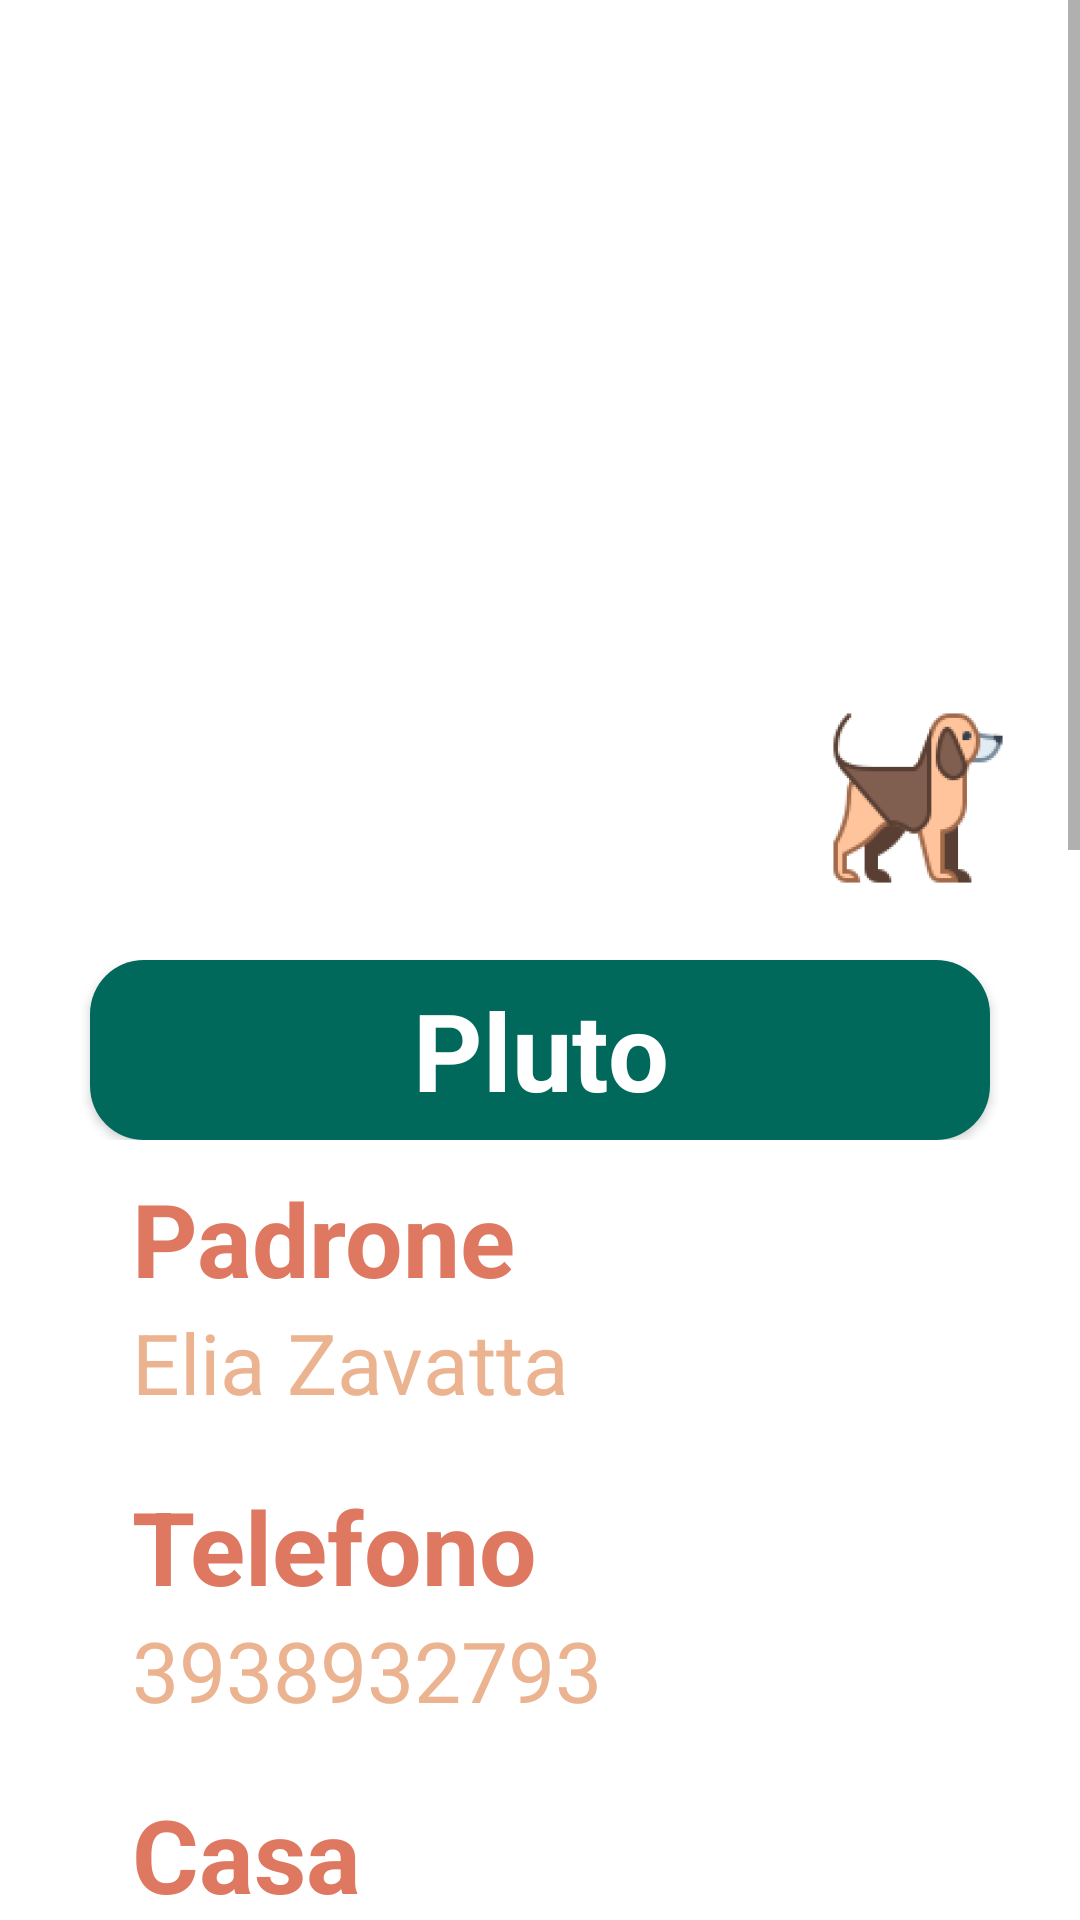

Icon click points for this 1080*1920 phone screenshot, format (x=x, y=y):
dog: (x=918, y=798)
